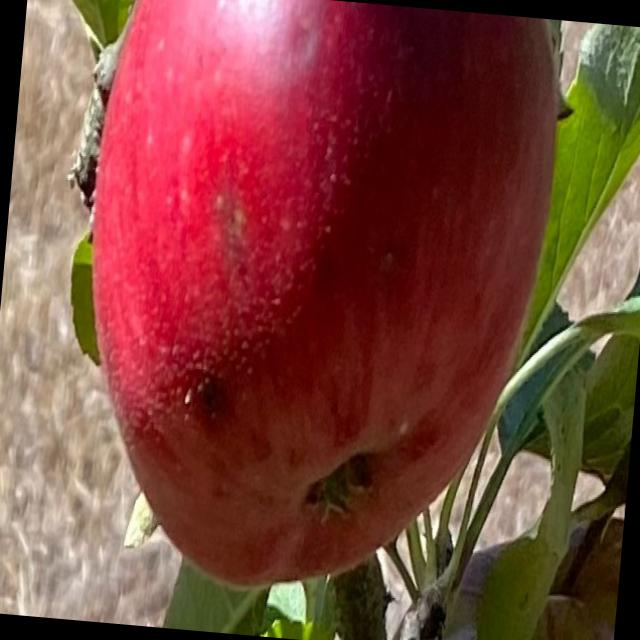Apples: (61, 0, 567, 609)
